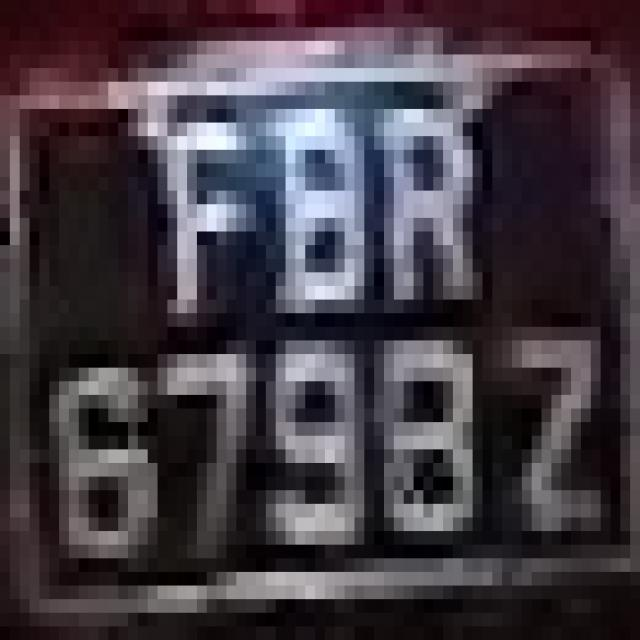6: (39, 314, 148, 626)
7: (128, 327, 246, 558)
8: (344, 313, 462, 572)
9: (226, 341, 394, 558)
B: (236, 54, 384, 340)
F: (118, 54, 256, 340)
R: (344, 54, 482, 327)
Z: (473, 299, 630, 572)
